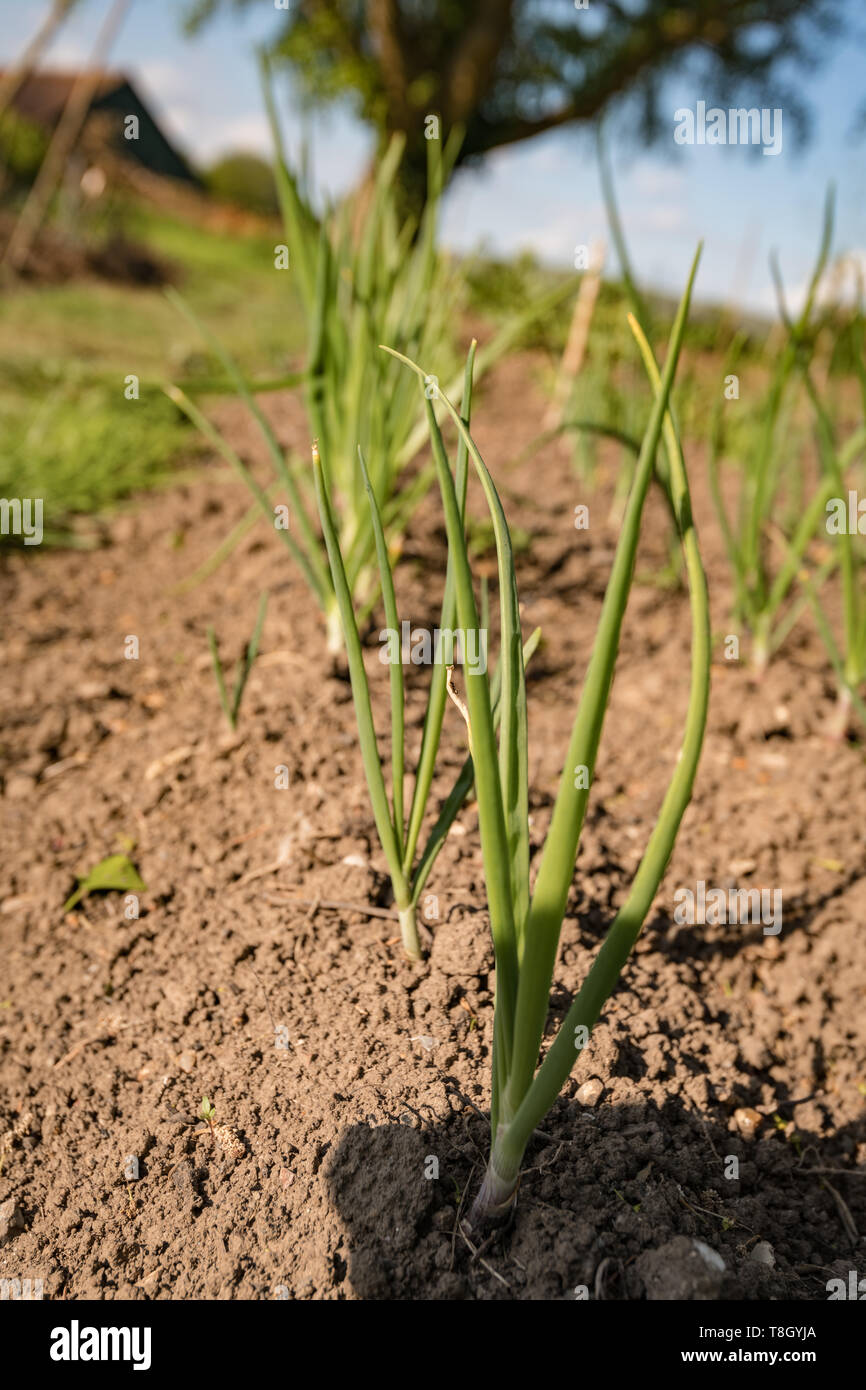onion: (385, 984, 700, 1301)
